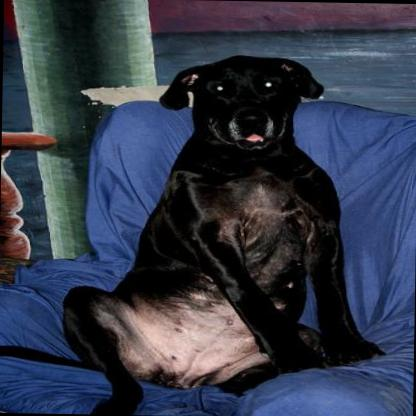Great_Dane: (59, 53, 385, 415)
